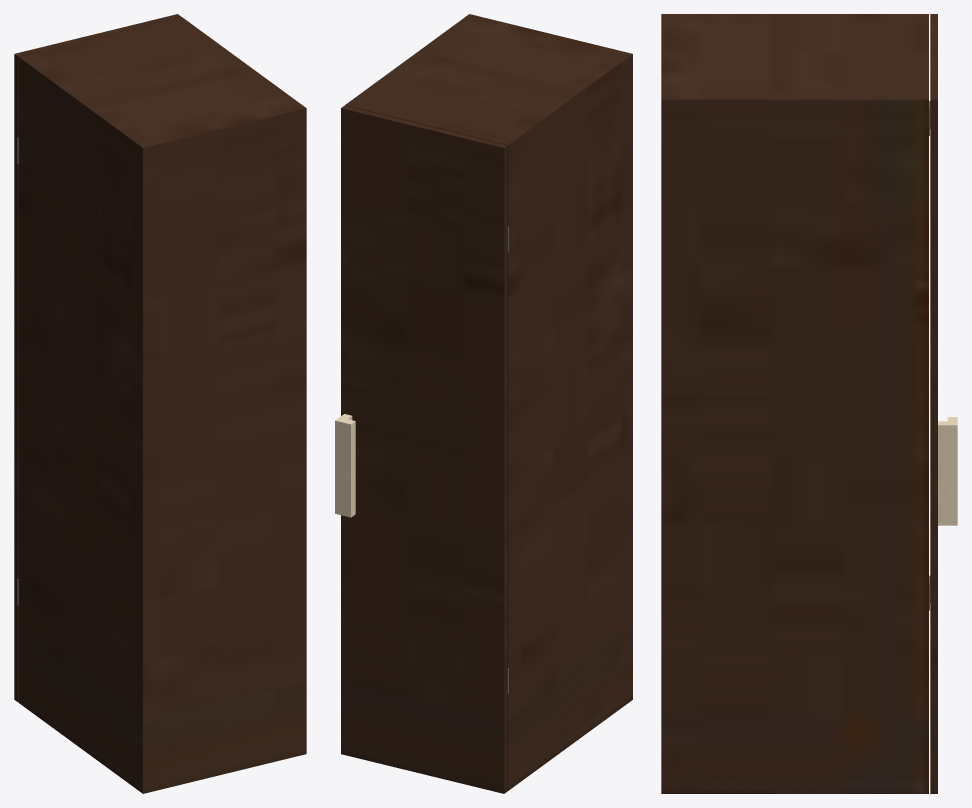
The model's file is Closet28.glb.
The picture shows the model from 3 angles, left to right: view 1: azimuth 30°, elevation 25°; view 2: azimuth 150°, elevation 25°; view 3: azimuth 270°, elevation 25°; orthographic projection. The views are drawn at different scales.
Parts seen in each view (by area): view 1: Closet28_model, Closet28Door; view 2: Closet28Door, Closet28_model; view 3: Closet28_model, Closet28Door.
Boxes of the visible parts, x1=… form: Closet28_model: x1=17, y1=17, x2=306, y2=793; Closet28Door: x1=14, y1=14, x2=181, y2=702; Closet28Door: x1=335, y1=105, x2=508, y2=793; Closet28_model: x1=345, y1=14, x2=632, y2=790; Closet28_model: x1=661, y1=14, x2=930, y2=793; Closet28Door: x1=929, y1=14, x2=957, y2=793.
Size of the model in its own units: 1.49 by 5.6 by 2.17.
1 material, 1 textured.
